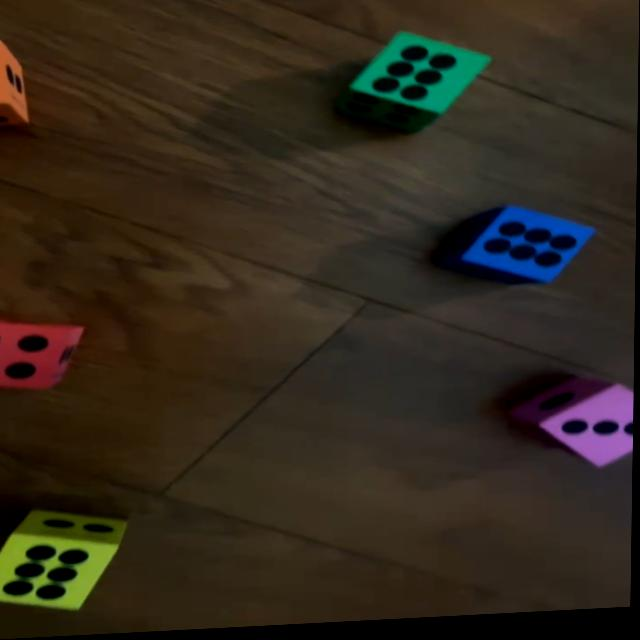cube: (346, 33, 491, 139), (440, 207, 595, 292), (0, 319, 85, 391)
